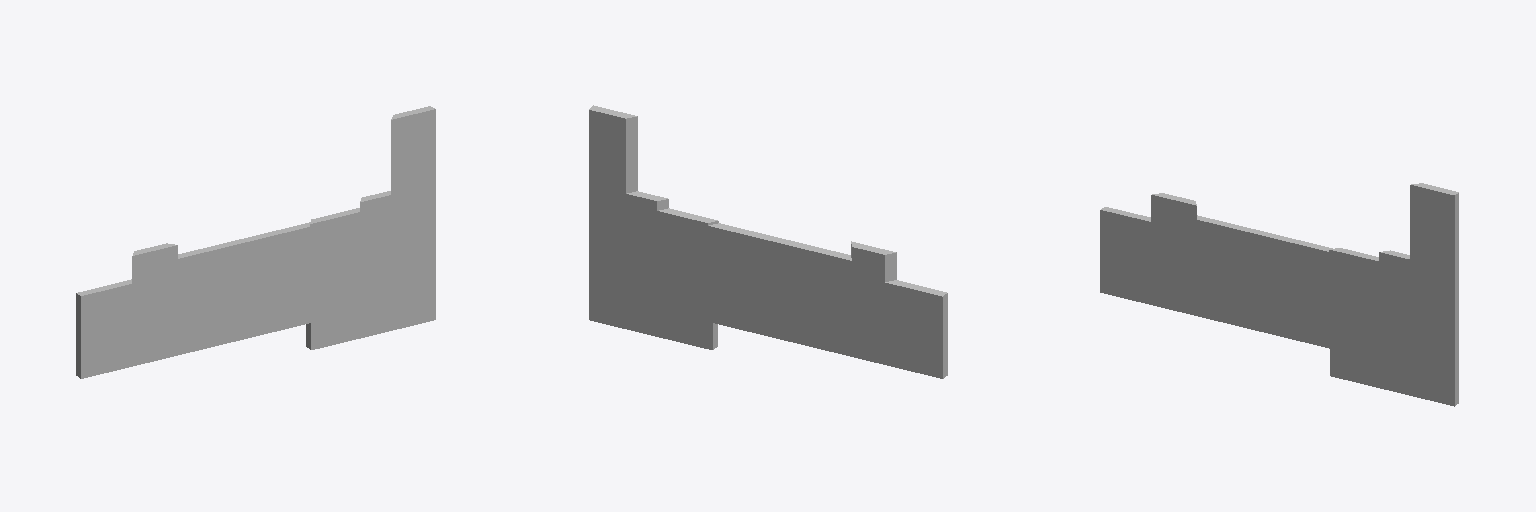
File: stg110_drill_22.obj
The picture shows the model from 3 angles: view 1: azimuth 30°, elevation 25°; view 2: azimuth 150°, elevation 25°; view 3: azimuth 330°, elevation 25°; orthographic projection.
Parts seen in each view (by area): view 1: polygon0, polygon1; view 2: polygon1; view 3: polygon0, polygon1.
Boxes of the visible parts, box(x1,y1,x2,y2) form: polygon0: box(81, 109, 435, 378); polygon1: box(76, 106, 434, 378); polygon1: box(589, 105, 947, 378); polygon0: box(1100, 185, 1454, 406); polygon1: box(1101, 183, 1458, 405).
Size of the model in its own units: 812 by 462 by 20.